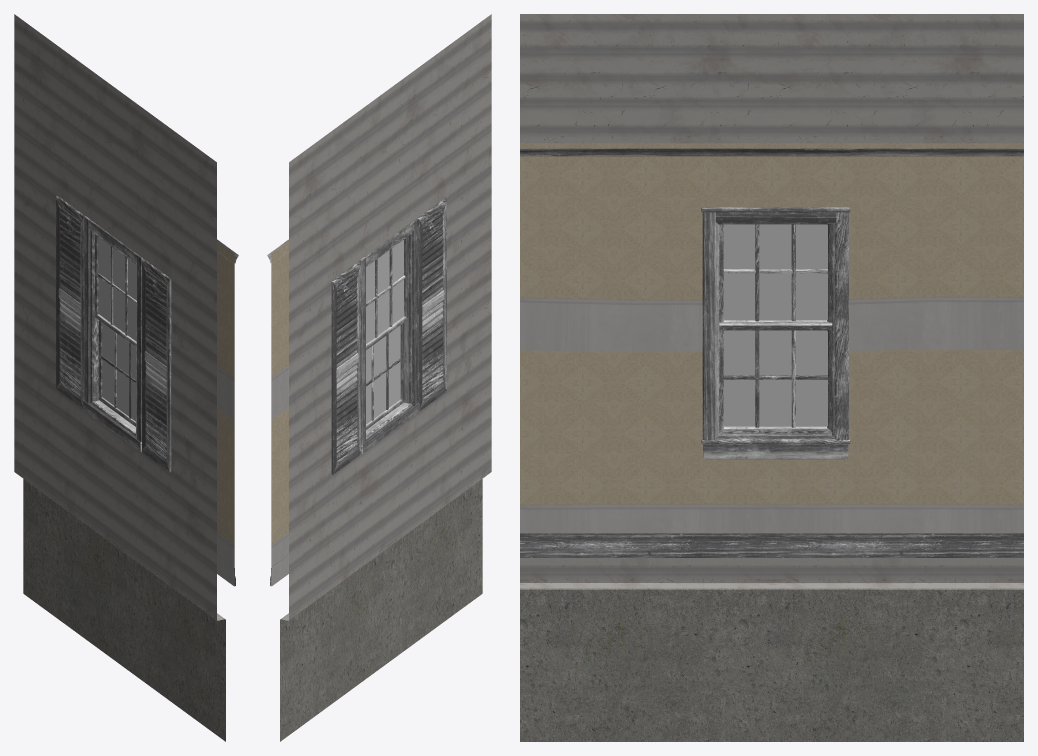
The model's file is SM_Window_Floor1_A4_400.fbx.
3 views of the same model, side by side, from view 1: azimuth 30°, elevation 25°; view 2: azimuth 150°, elevation 25°; view 3: azimuth 270°, elevation 25° (orthographic). The views are drawn at different scales.
Parts seen in each view (by area): view 1: SM_Window_Floor1_A4_400_LOD0; view 2: SM_Window_Floor1_A4_400_LOD0; view 3: SM_Window_Floor1_A4_400_LOD0.
Part boxes in pixels (x1,y1,x2,y2): SM_Window_Floor1_A4_400_LOD0: (14, 14, 238, 741); SM_Window_Floor1_A4_400_LOD0: (267, 14, 491, 741); SM_Window_Floor1_A4_400_LOD0: (520, 14, 1023, 741).
Bounding box in the file's own units: 19.26 × 280 × 443.
7 materials, 6 textured.
